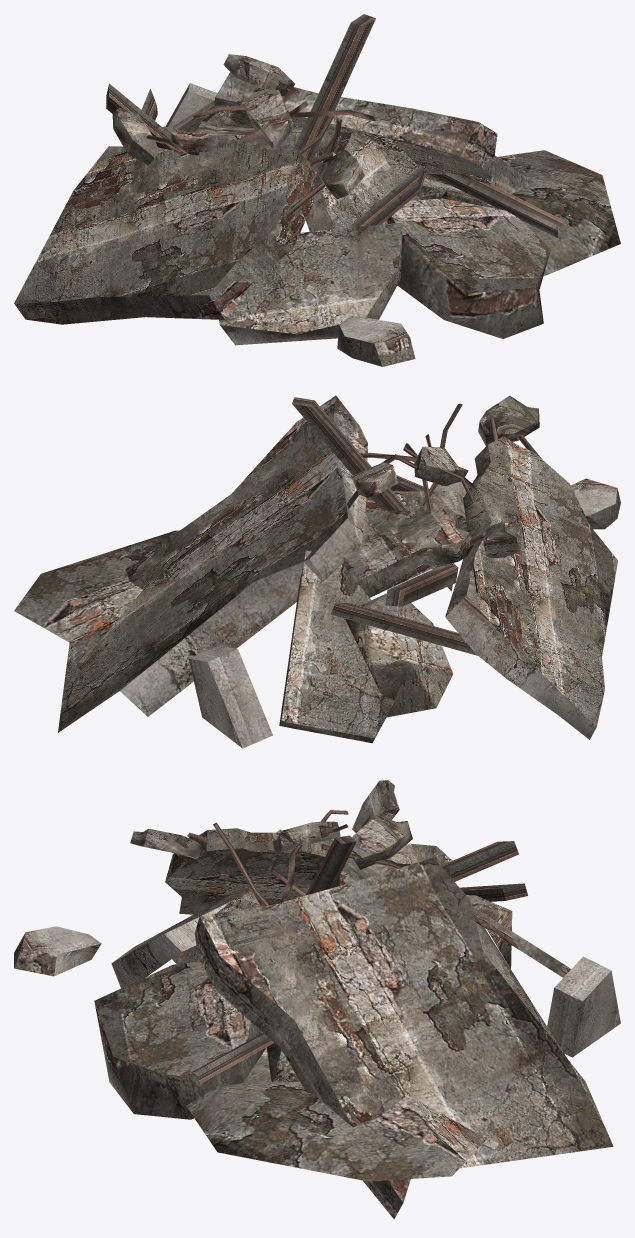
Rendered from Prop_JyzFx006.glb.
The picture shows the model from 3 angles, top to bottom: view 1: azimuth 30°, elevation 25°; view 2: azimuth 150°, elevation 25°; view 3: azimuth 270°, elevation 25°; orthographic projection.
Parts seen in each view (by area): view 1: jyz_fx006; view 2: jyz_fx006; view 3: jyz_fx006.
Part boxes in pixels (x1,y1,x2,y2): jyz_fx006: (14, 14, 620, 366); jyz_fx006: (14, 395, 620, 748); jyz_fx006: (14, 780, 620, 1218).
Bounding box in the file's own units: 6.05 × 2.98 × 5.63.
1 material, 1 textured.
